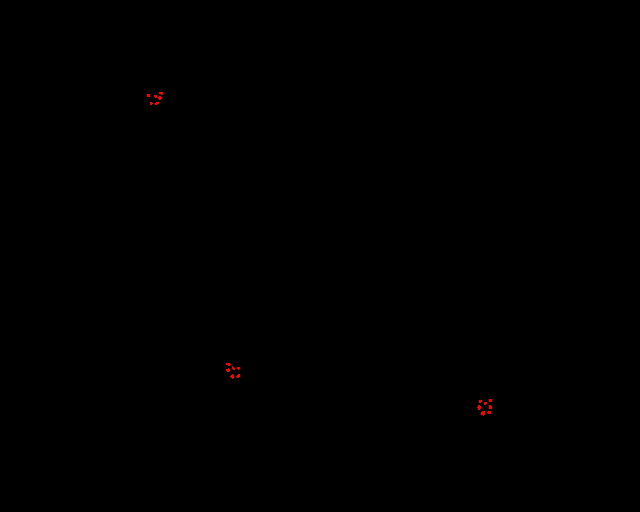Target: (230, 374, 234, 379), (477, 405, 481, 410), (481, 411, 485, 416), (158, 96, 162, 100), (226, 368, 230, 372), (236, 374, 240, 378), (226, 363, 231, 366), (159, 92, 163, 95), (155, 102, 159, 105), (232, 366, 235, 370), (489, 405, 492, 409), (487, 411, 491, 414), (147, 94, 150, 97), (154, 95, 157, 98), (150, 102, 153, 105), (237, 367, 240, 370), (489, 399, 492, 402), (479, 400, 482, 403), (484, 402, 487, 405)
